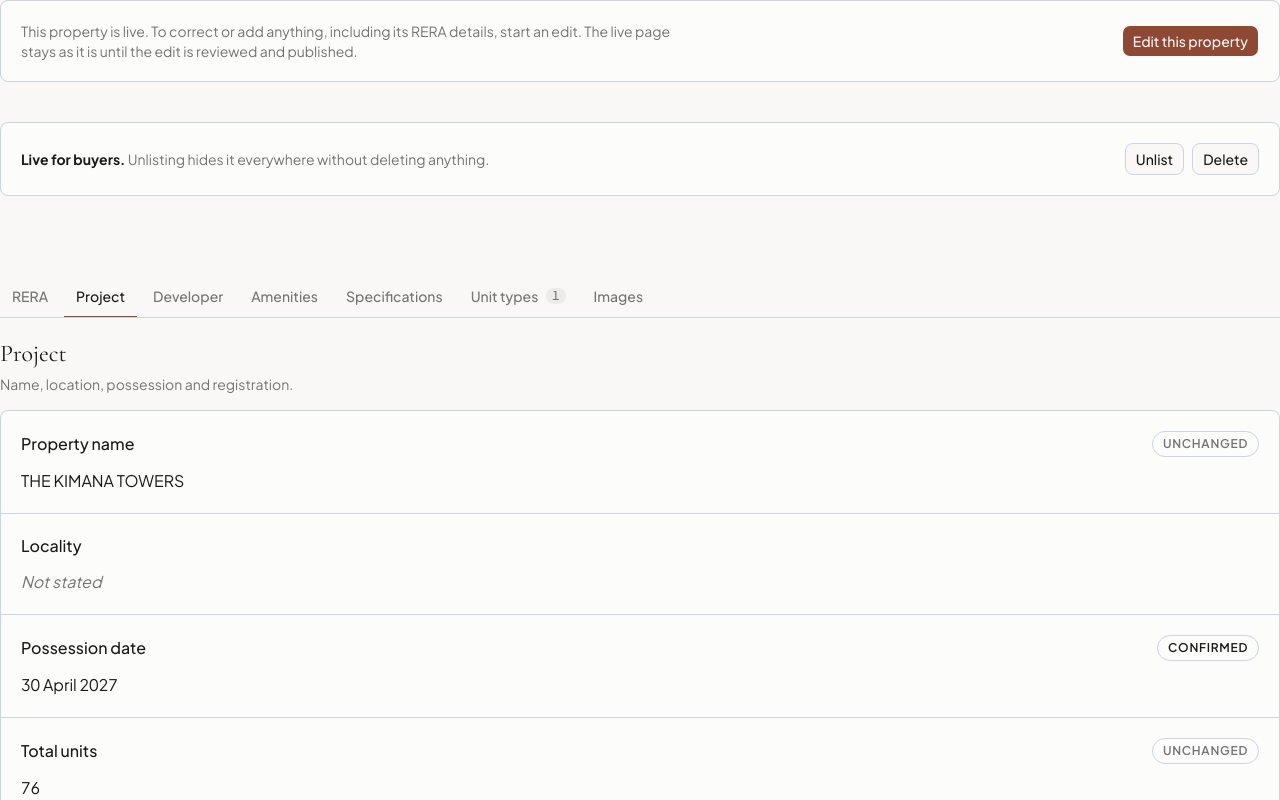
it: listing, unlisting and deleting a property › says in words when the change is refused, and does not refresh
What coordinates should you click on to do the following:
click the button "Delete"
I would click on:
 (1226, 159)
Its box is [1192,143,1259,175].
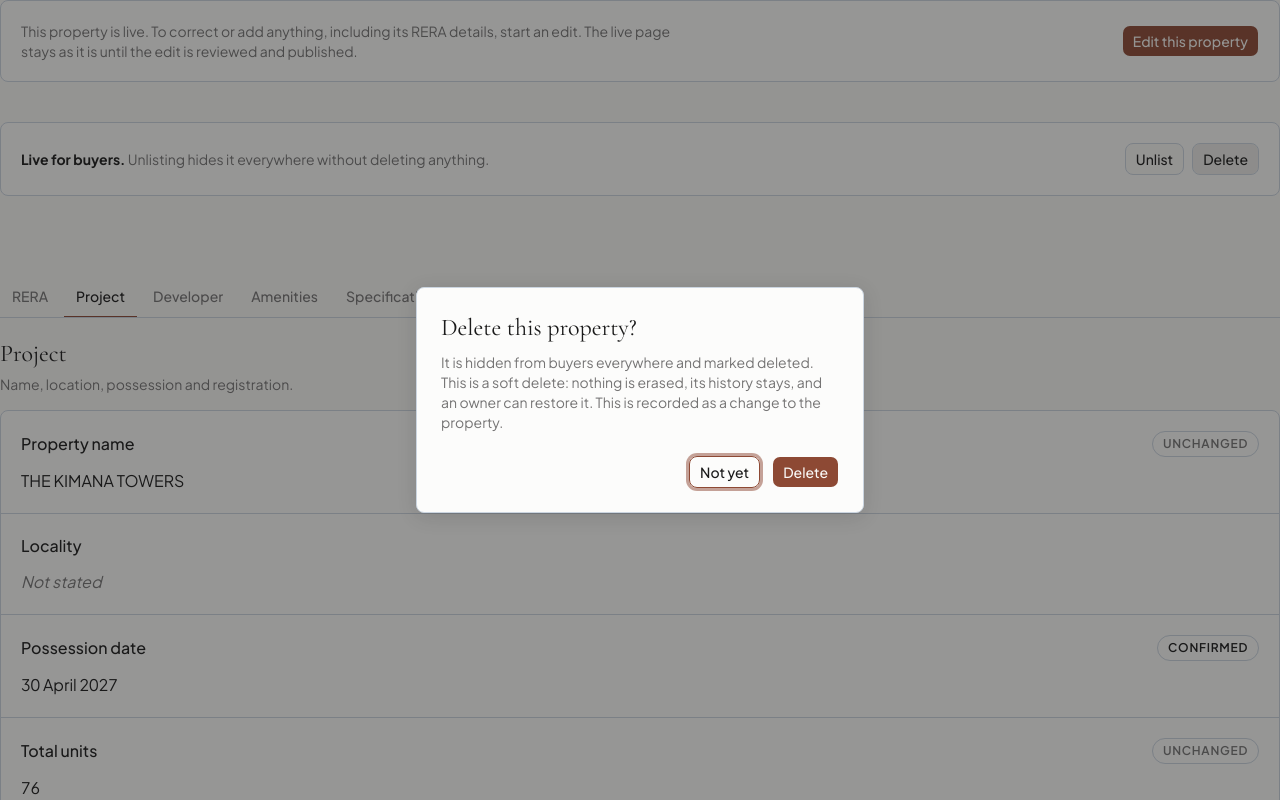
What coordinates should you click on to do the following:
click the button "Delete"
I would click on:
 (806, 472)
Its box is [772,456,839,488].
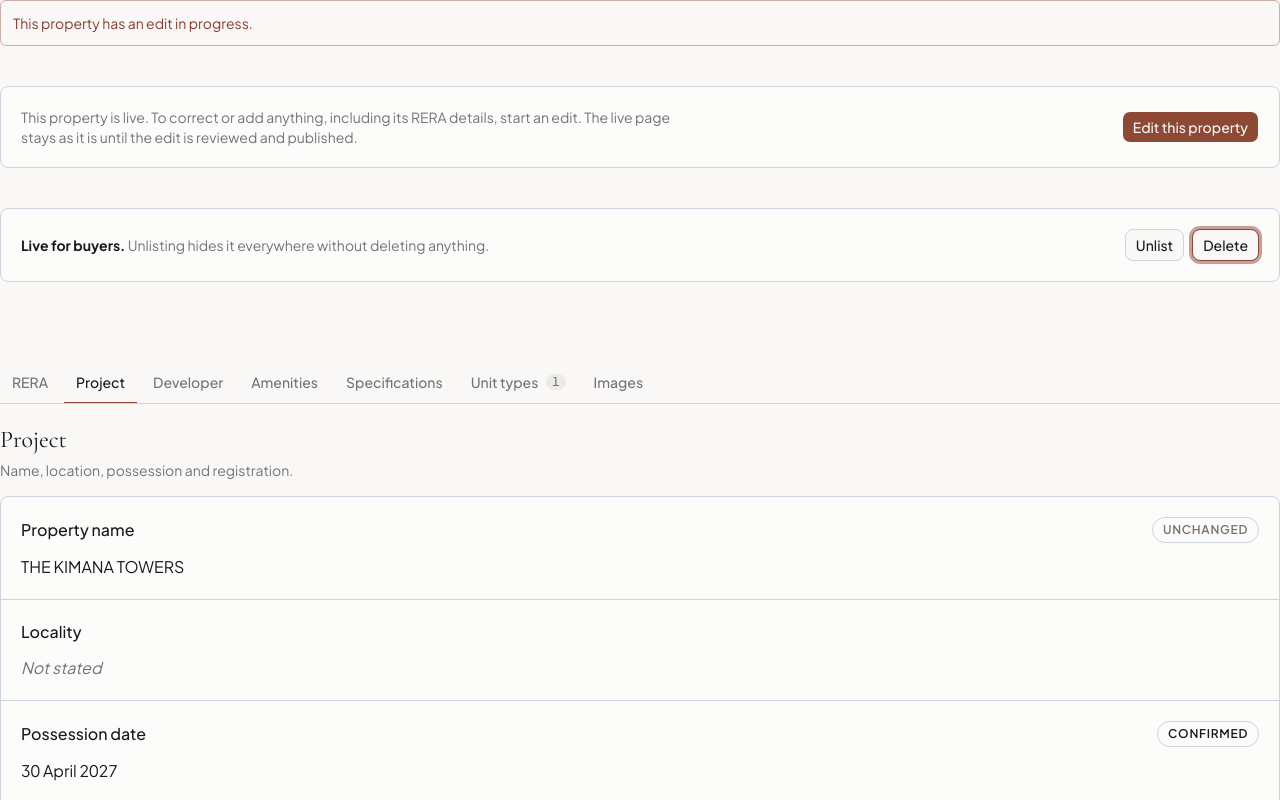
Expected: the message shows "edit in progress", [13,14,253,32]
